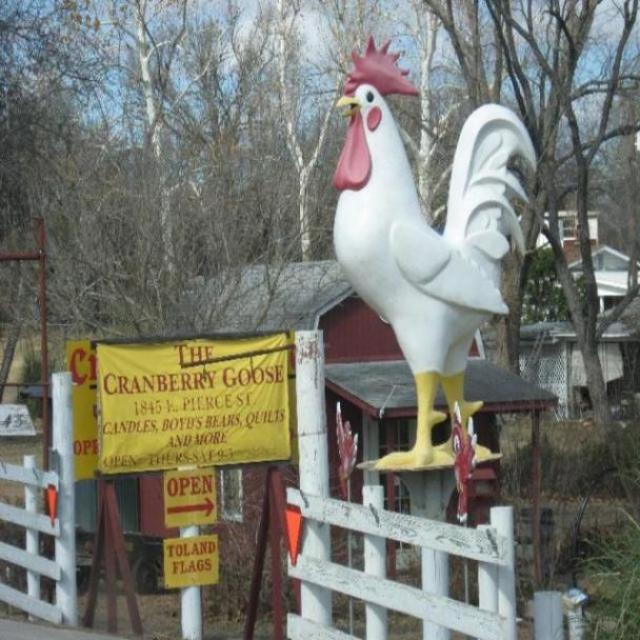Chicken: (320, 32, 531, 505)
